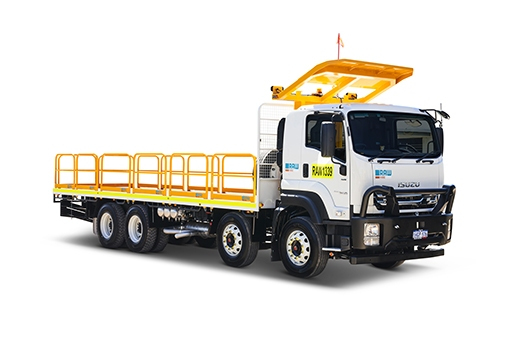truck: (52, 33, 458, 281)
